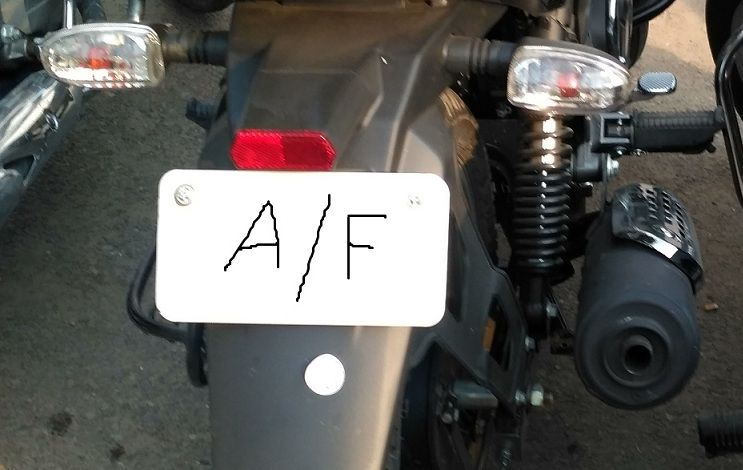number_plate: (153, 168, 450, 331)
